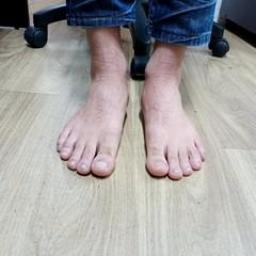Front View -Both Feet-: (40, 50, 234, 197)
